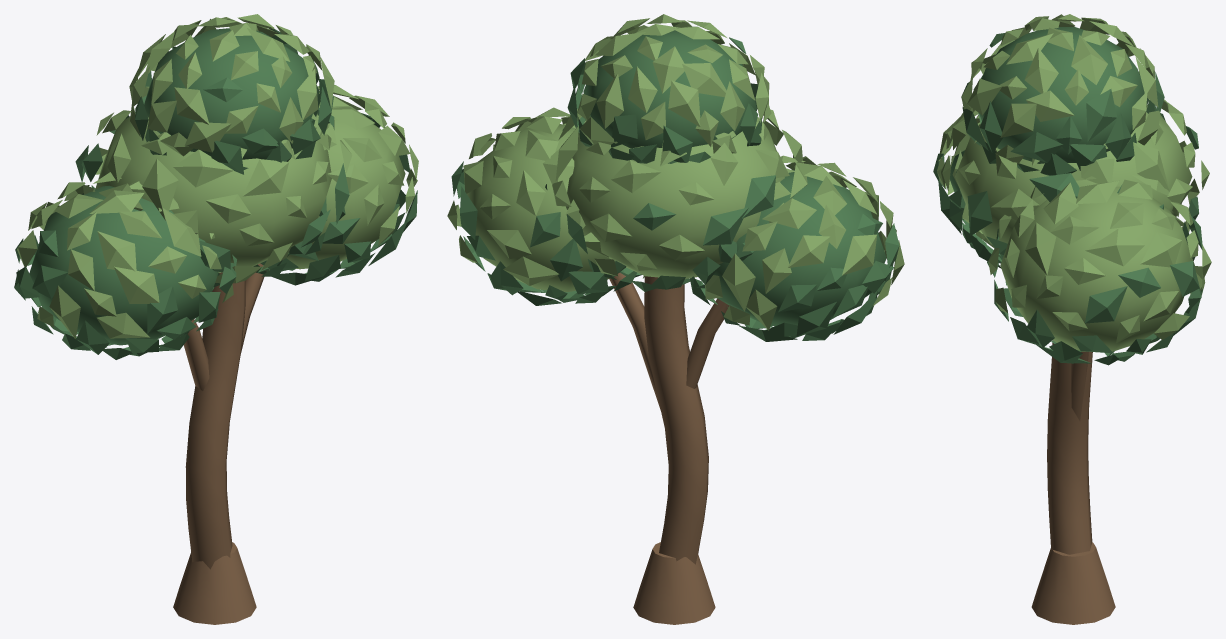
Rendered from tree.broad.glb.
3 views of the same model, side by side, from view 1: azimuth 30°, elevation 25°; view 2: azimuth 150°, elevation 25°; view 3: azimuth 270°, elevation 25° (orthographic). The views are drawn at different scales.
Visible parts, largest first — view 1: Root flare; view 2: Root flare; view 3: Root flare.
Part boxes in pixels (x1,y1,x2,y2): Root flare: [14, 14, 418, 624]; Root flare: [447, 14, 904, 624]; Root flare: [933, 14, 1211, 624].
Bounding box in the file's own units: 1.59 × 2.15 × 0.9267.
